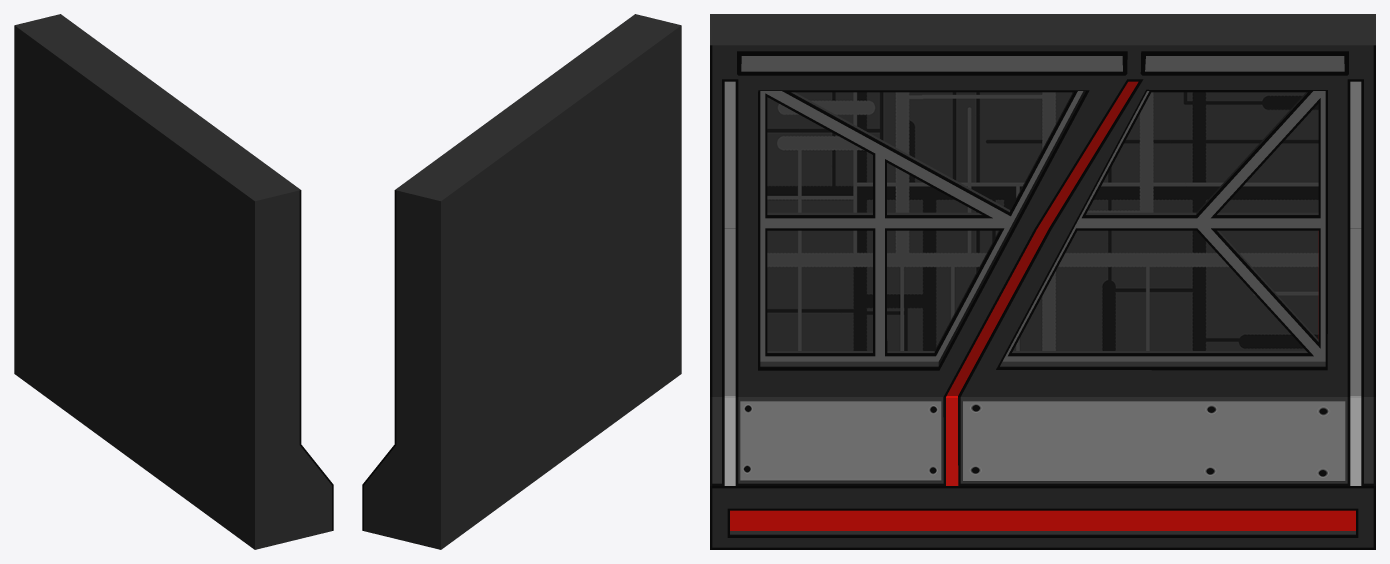
Rendered from Level 3 Short Wall.fbx.
3 renders of one model, left to right at view 1: azimuth 30°, elevation 25°; view 2: azimuth 150°, elevation 25°; view 3: azimuth 270°, elevation 25°, orthographic. The views are drawn at different scales.
Parts seen in each view (by area): view 1: Level 3 Short Wall; view 2: Level 3 Short Wall; view 3: Level 3 Short Wall.
Part boxes in pixels (x1,y1,x2,y2): Level 3 Short Wall: [14, 14, 333, 549]; Level 3 Short Wall: [362, 14, 681, 549]; Level 3 Short Wall: [710, 14, 1375, 549].
Size of the model in its own units: 9 by 7.2 by 1.7.
